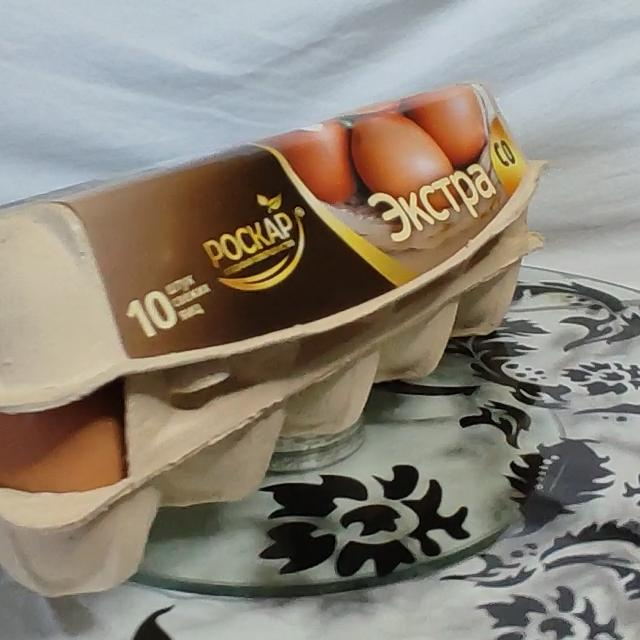egg: (0, 36, 555, 599)
